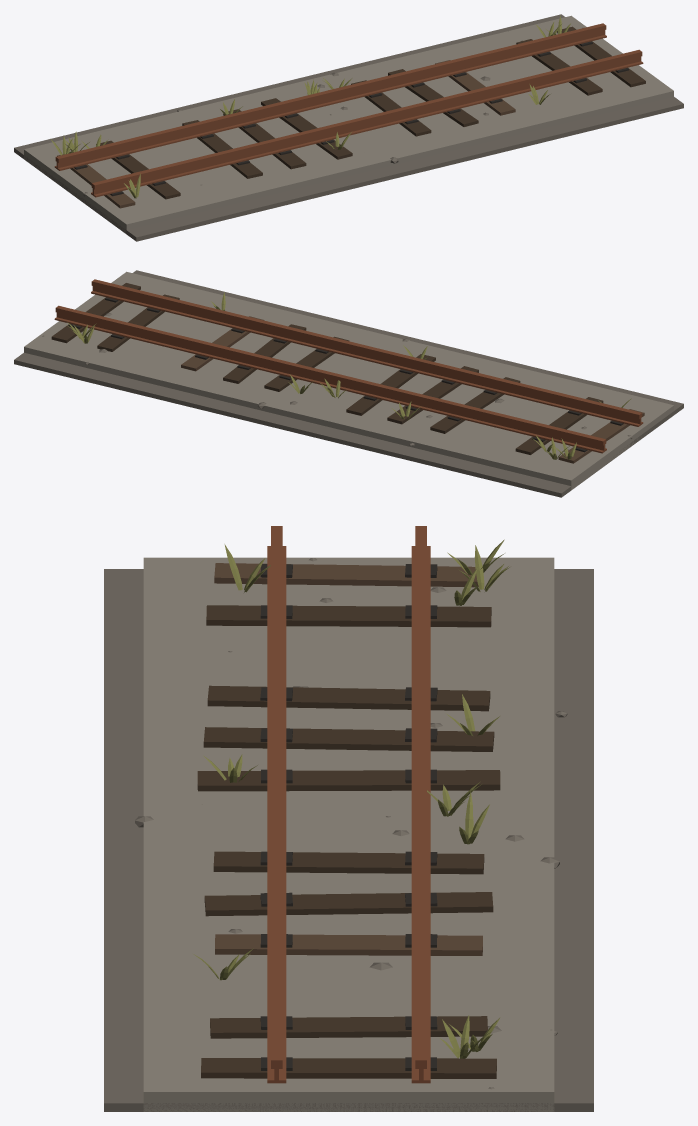
Rendered from rieles-riel-recta-gastada.glb.
3 views of the same model, one above another, from view 1: azimuth 30°, elevation 25°; view 2: azimuth 150°, elevation 25°; view 3: azimuth 270°, elevation 25° (orthographic). The views are drawn at different scales.
Visible parts, largest first — view 1: riel_recta_gastada_Balasto, riel_recta_gastada_RielOxidado, riel_recta_gastada_BalastoHombro, riel_recta_gastada_DurmienteViejo, riel_recta_gastada_Hierba, riel_recta_gastada_Durmiente, riel_recta_gastada_PlacaApoyo; view 2: riel_recta_gastada_Balasto, riel_recta_gastada_RielOxidado, riel_recta_gastada_BalastoHombro, riel_recta_gastada_DurmienteViejo, riel_recta_gastada_Durmiente, riel_recta_gastada_Hierba, riel_recta_gastada_PlacaApoyo; view 3: riel_recta_gastada_Balasto, riel_recta_gastada_BalastoHombro, riel_recta_gastada_DurmienteViejo, riel_recta_gastada_RielOxidado, riel_recta_gastada_Durmiente, riel_recta_gastada_Hierba, riel_recta_gastada_PlacaApoyo.
Boxes of the visible parts, <box> form: riel_recta_gastada_Balasto: <box>24,15,673,233</box>; riel_recta_gastada_RielOxidado: <box>54,23,643,197</box>; riel_recta_gastada_BalastoHombro: <box>14,14,683,241</box>; riel_recta_gastada_DurmienteViejo: <box>96,26,645,199</box>; riel_recta_gastada_Hierba: <box>50,15,570,198</box>; riel_recta_gastada_Durmiente: <box>57,60,515,208</box>; riel_recta_gastada_PlacaApoyo: <box>74,41,628,196</box>; riel_recta_gastada_Balasto: <box>24,271,673,490</box>; riel_recta_gastada_RielOxidado: <box>54,279,643,453</box>; riel_recta_gastada_BalastoHombro: <box>14,270,683,497</box>; riel_recta_gastada_DurmienteViejo: <box>51,283,603,454</box>; riel_recta_gastada_Durmiente: <box>181,316,644,463</box>; riel_recta_gastada_Hierba: <box>67,292,631,459</box>; riel_recta_gastada_PlacaApoyo: <box>68,297,623,452</box>; riel_recta_gastada_Balasto: <box>143,557,554,1111</box>; riel_recta_gastada_BalastoHombro: <box>104,558,593,1111</box>; riel_recta_gastada_DurmienteViejo: <box>197,605,500,1078</box>; riel_recta_gastada_RielOxidado: <box>267,526,430,1083</box>; riel_recta_gastada_Durmiente: <box>214,563,482,955</box>; riel_recta_gastada_Hierba: <box>193,539,509,1058</box>; riel_recta_gastada_PlacaApoyo: <box>260,564,437,1070</box>.
Bounding box in the file's own units: 8.01 × 0.3915 × 3.1.
